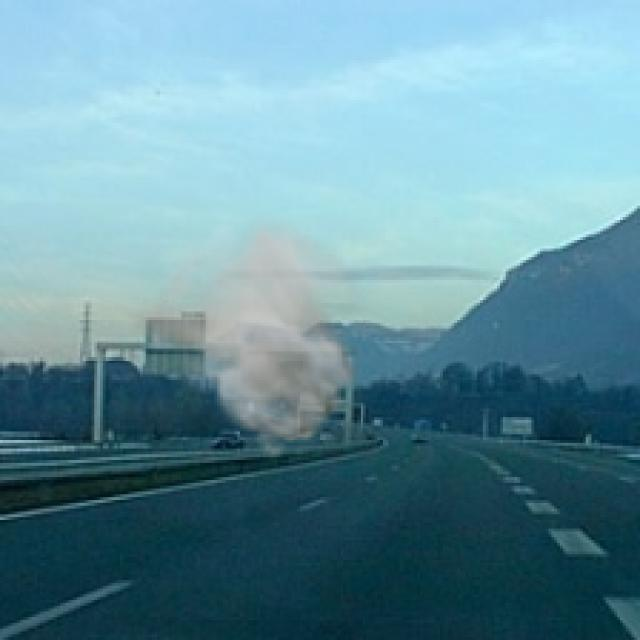smoke: (123, 211, 377, 463)
